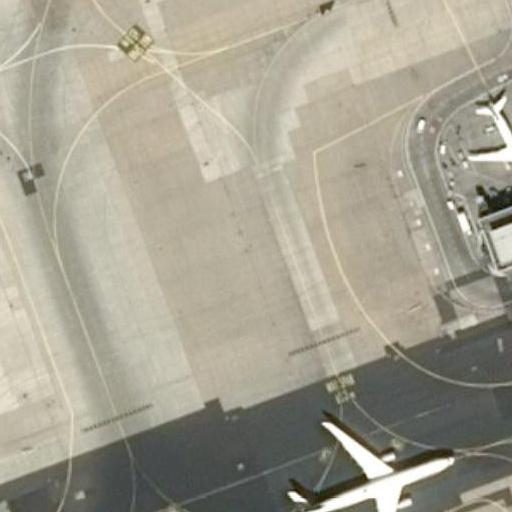Aircraft: (276, 411, 457, 512), (280, 411, 456, 512), (460, 89, 512, 192), (462, 96, 512, 196)
